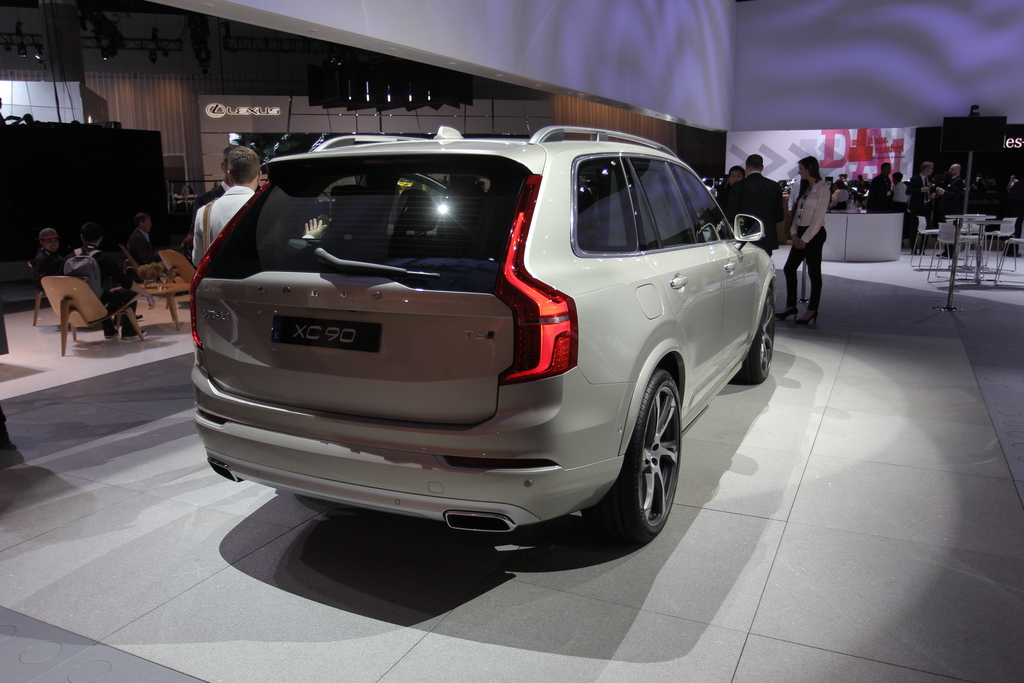person: (28, 225, 68, 277)
